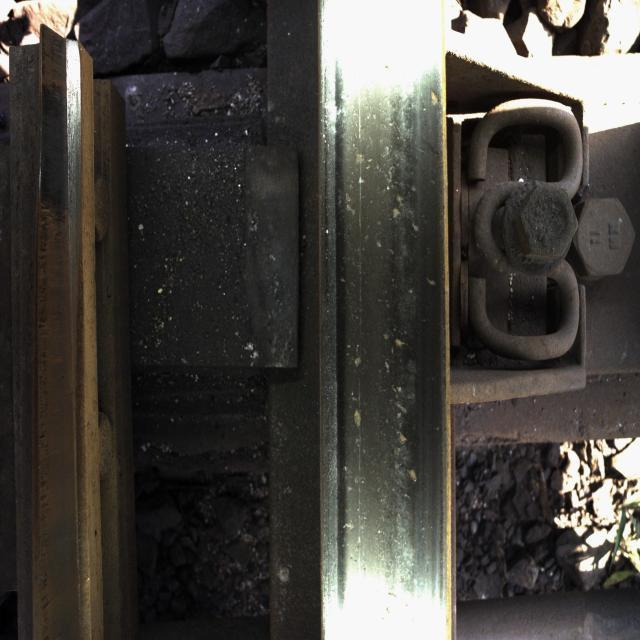scar: (322, 42, 428, 594)
